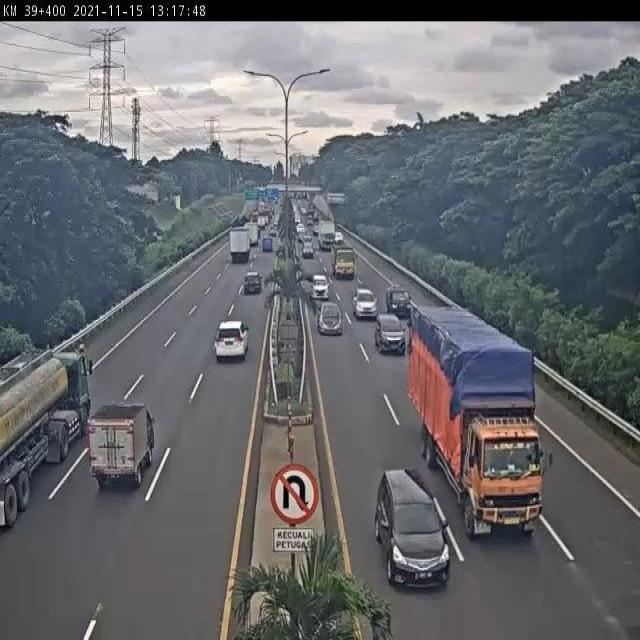Car: (372, 466, 452, 594), (214, 319, 250, 362), (374, 312, 406, 354), (316, 302, 344, 336), (385, 285, 411, 318), (352, 288, 378, 319), (310, 273, 330, 300), (244, 271, 262, 294), (302, 239, 314, 258)
Truck: (404, 304, 555, 543), (0, 342, 94, 530), (85, 402, 156, 492), (330, 243, 359, 281), (228, 225, 252, 262), (317, 219, 335, 253)
